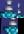recallP: (0, 0, 18, 18), (0, 18, 18, 34), (18, 0, 24, 18)
